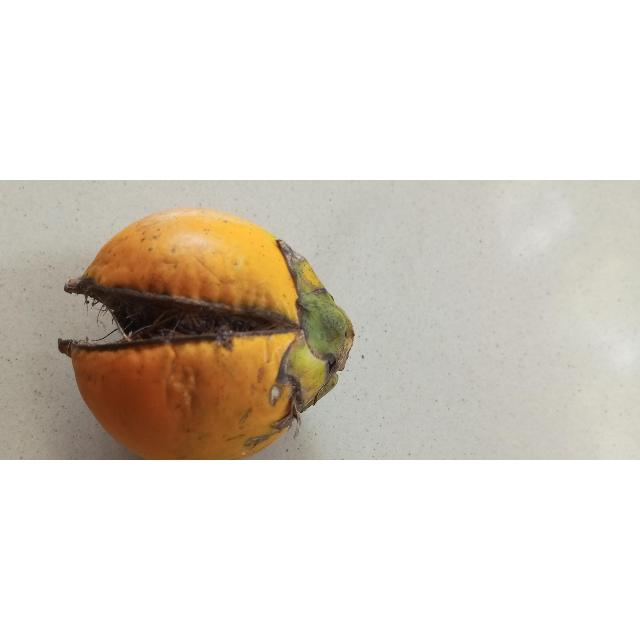damaged: (58, 208, 355, 461)
